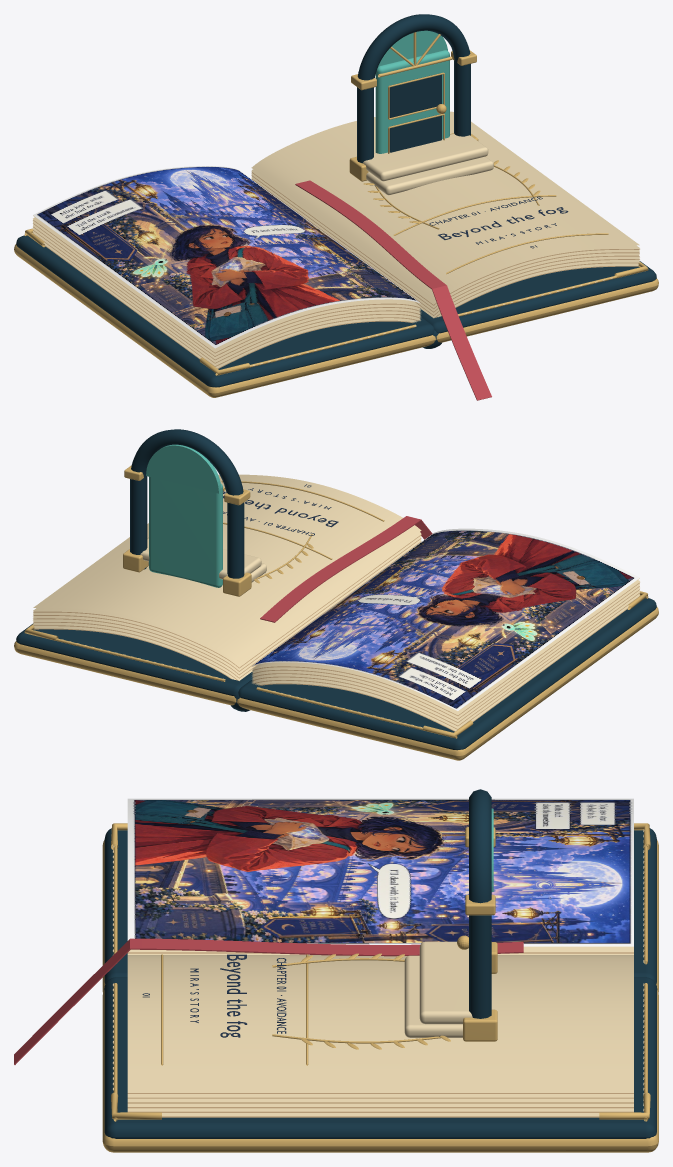
File: storybook-hero.glb
3 renders of one model, top to bottom at view 1: azimuth 30°, elevation 25°; view 2: azimuth 150°, elevation 25°; view 3: azimuth 270°, elevation 25°, orthographic. The views are drawn at different scales.
Visible parts, largest first — view 1: Storybook_book_Book_Cotton paper.003, Storybook_book_Book_Mira illustrated page.003, Storybook_book_Book_Midnight leather.003, Storybook_book_Book_Warm gilding.003, Storybook_book_Book_Paper edges.003, Storybook_book_Book_Silk bookmark.003, Storybook_doorLeaf_Book_Moonstone enamel.003, Storybook_doorLeaf_Book_Midnight leather.003, Storybook_book_Book_Moonstone enamel.003, Storybook_book_Book_Letterpress indigo.003, Storybook_doorLeaf_Book_Warm gilding.003; view 2: Storybook_book_Book_Cotton paper.003, Storybook_book_Book_Mira illustrated page.003, Storybook_book_Book_Midnight leather.003, Storybook_book_Book_Warm gilding.003, Storybook_doorLeaf_Book_Moonstone enamel.003, Storybook_book_Book_Paper edges.003, Storybook_book_Book_Silk bookmark.003, Storybook_book_Book_Moonstone enamel.003, Storybook_book_Book_Letterpress indigo.003; view 3: Storybook_book_Book_Cotton paper.003, Storybook_book_Book_Mira illustrated page.003, Storybook_book_Book_Midnight leather.003, Storybook_book_Book_Warm gilding.003, Storybook_book_Book_Paper edges.003, Storybook_book_Book_Silk bookmark.003, Storybook_book_Book_Letterpress indigo.003.
Part boxes in pixels (bbox=[...]): Storybook_book_Book_Cotton paper.003: bbox=[32, 111, 639, 368]; Storybook_book_Book_Mira illustrated page.003: bbox=[33, 166, 420, 348]; Storybook_book_Book_Midnight leather.003: bbox=[16, 14, 656, 387]; Storybook_book_Book_Warm gilding.003: bbox=[14, 32, 658, 397]; Storybook_book_Book_Paper edges.003: bbox=[33, 172, 639, 368]; Storybook_book_Book_Silk bookmark.003: bbox=[295, 180, 491, 400]; Storybook_doorLeaf_Book_Moonstone enamel.003: bbox=[375, 50, 449, 153]; Storybook_doorLeaf_Book_Midnight leather.003: bbox=[389, 74, 441, 152]; Storybook_book_Book_Moonstone enamel.003: bbox=[378, 30, 447, 66]; Storybook_book_Book_Letterpress indigo.003: bbox=[429, 196, 568, 248]; Storybook_doorLeaf_Book_Warm gilding.003: bbox=[388, 72, 446, 153]; Storybook_book_Book_Cotton paper.003: bbox=[33, 474, 639, 731]; Storybook_book_Book_Mira illustrated page.003: bbox=[252, 528, 639, 710]; Storybook_book_Book_Midnight leather.003: bbox=[16, 429, 656, 750]; Storybook_book_Book_Warm gilding.003: bbox=[14, 465, 658, 760]; Storybook_doorLeaf_Book_Moonstone enamel.003: bbox=[149, 476, 222, 587]; Storybook_book_Book_Paper edges.003: bbox=[33, 535, 639, 731]; Storybook_book_Book_Silk bookmark.003: bbox=[260, 516, 432, 622]; Storybook_book_Book_Moonstone enamel.003: bbox=[146, 444, 221, 493]; Storybook_book_Book_Letterpress indigo.003: bbox=[223, 484, 338, 535]; Storybook_book_Book_Cotton paper.003: bbox=[112, 829, 644, 1116]; Storybook_book_Book_Mira illustrated page.003: bbox=[127, 798, 633, 946]; Storybook_book_Book_Midnight leather.003: bbox=[104, 789, 657, 1138]; Storybook_book_Book_Warm gilding.003: bbox=[102, 823, 658, 1152]; Storybook_book_Book_Paper edges.003: bbox=[127, 952, 633, 1117]; Storybook_book_Book_Silk bookmark.003: bbox=[14, 938, 523, 1064]; Storybook_book_Book_Letterpress indigo.003: bbox=[142, 954, 286, 1037].
Size of the model in its own units: 3.34 by 1.67 by 2.98.
8 materials, 1 textured.
